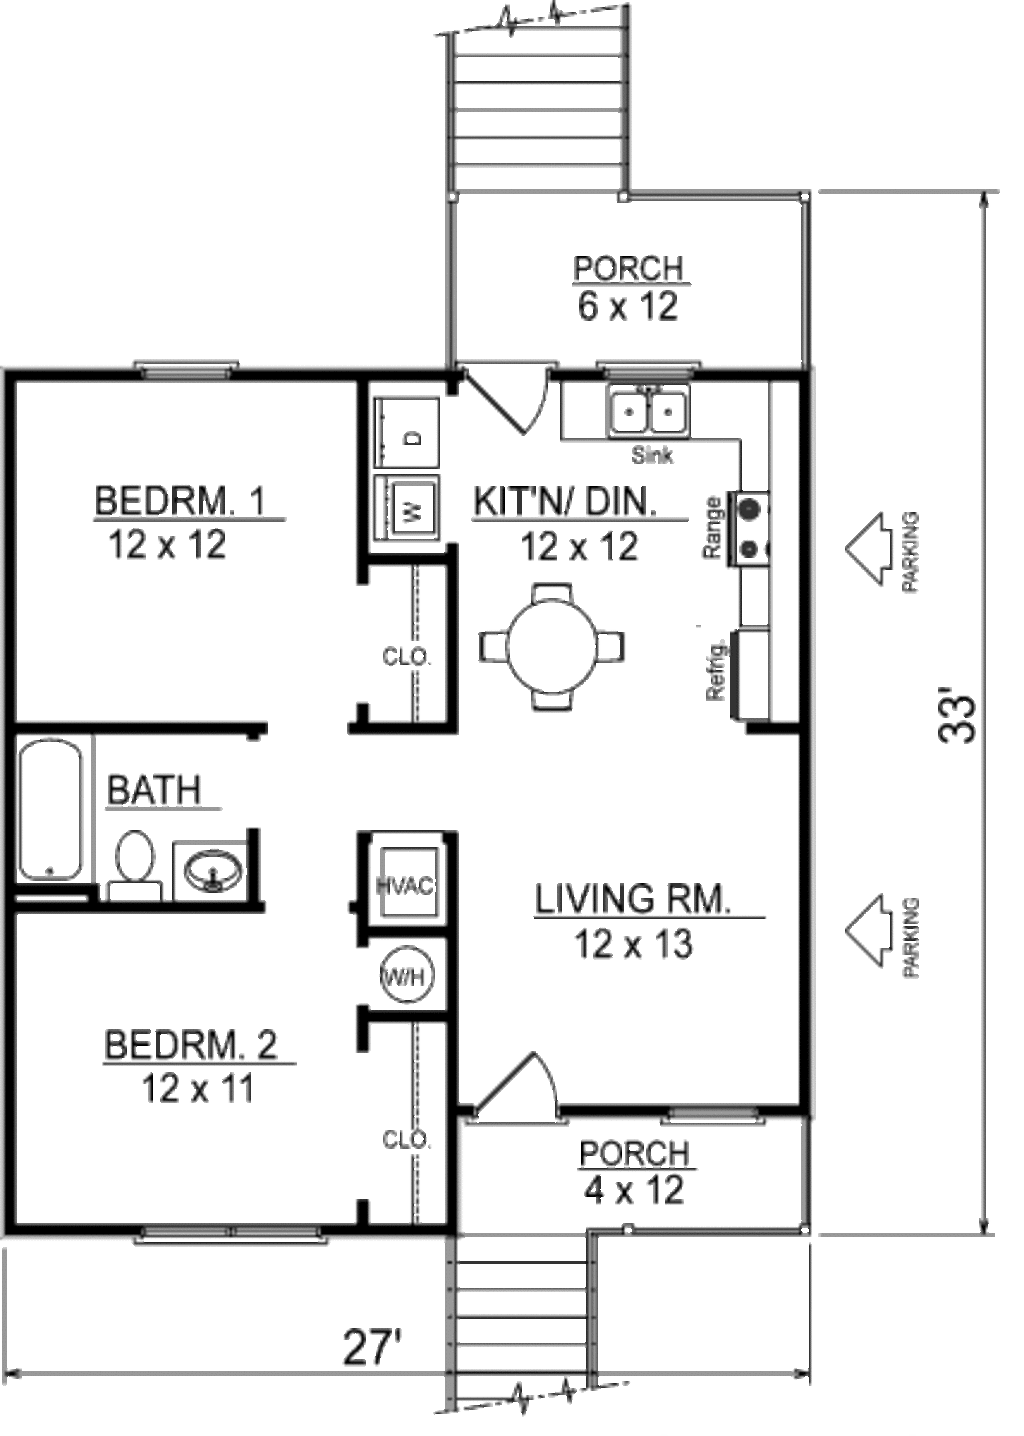door: (465, 1055, 566, 1120), (464, 365, 555, 435)
large_sink: (99, 825, 166, 907)
round_table: (482, 578, 632, 708)
small_sink: (170, 840, 255, 914)
stairs: (449, 8, 638, 207), (434, 1229, 610, 1413)
tub: (16, 731, 100, 884)
twin_sink: (600, 376, 694, 443)
windows: (129, 1217, 331, 1252), (129, 351, 253, 393), (659, 1094, 767, 1132)
